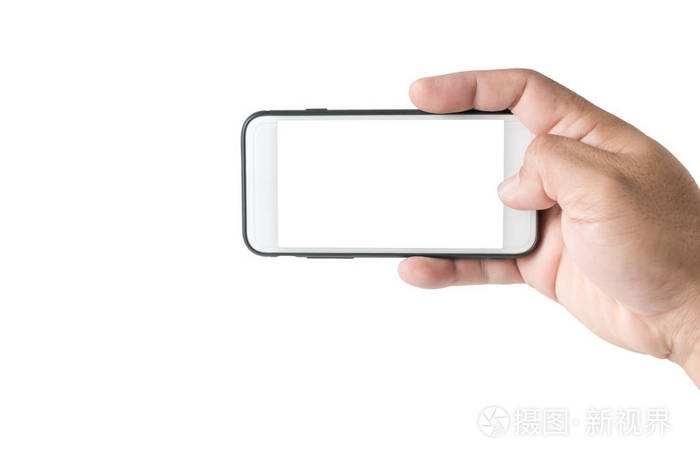phone: (214, 64, 689, 330)
